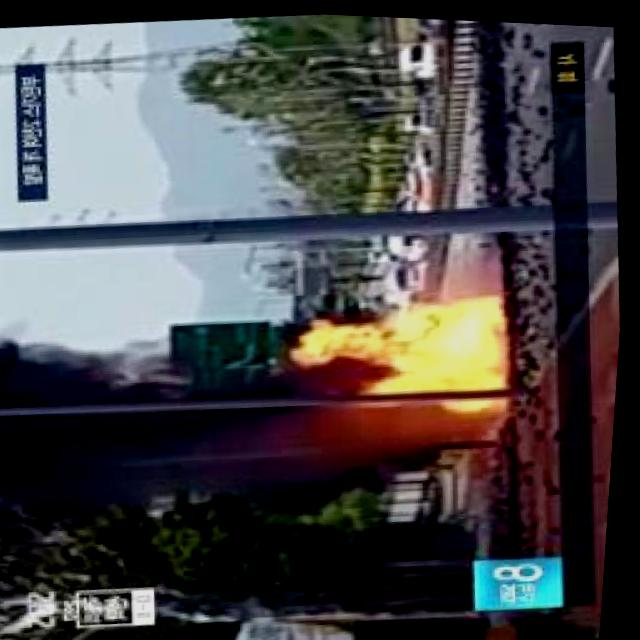helmet: (310, 287, 518, 372), (387, 352, 528, 416)
no_helmet: (0, 319, 385, 523)
